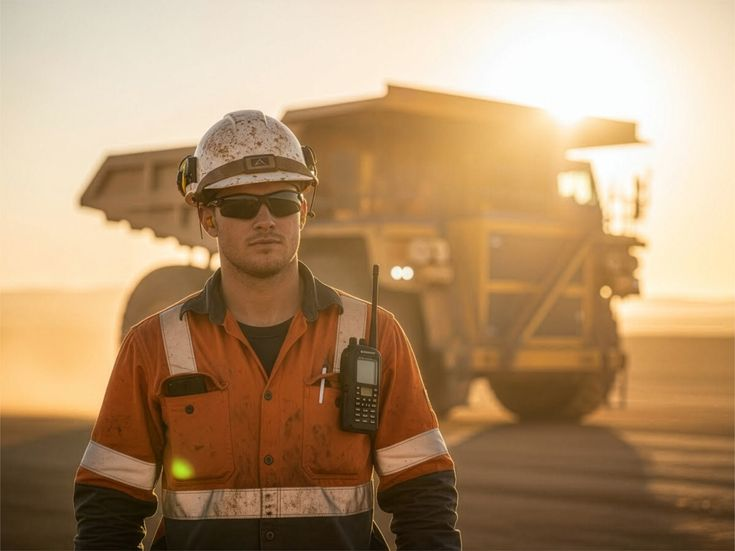hardhat: (170, 112, 340, 201)
person: (78, 108, 502, 546)
safety_vest: (107, 298, 418, 509)
truck: (70, 71, 696, 434)
